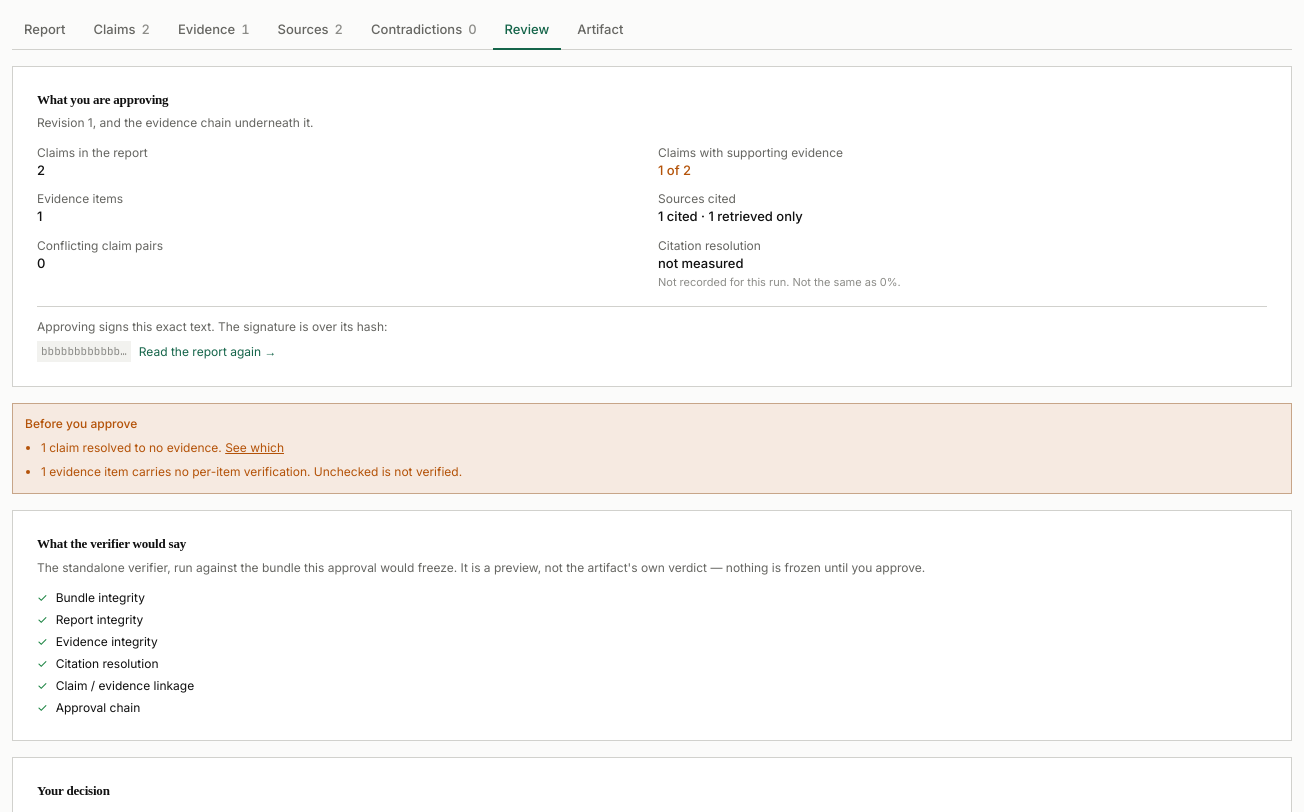
Test: the evidence chain › renders the report as markdown, with a resolved citation and a visible ⚠ for one that is not
Click the tab "Report" at (45,31), box [12,12,78,50]
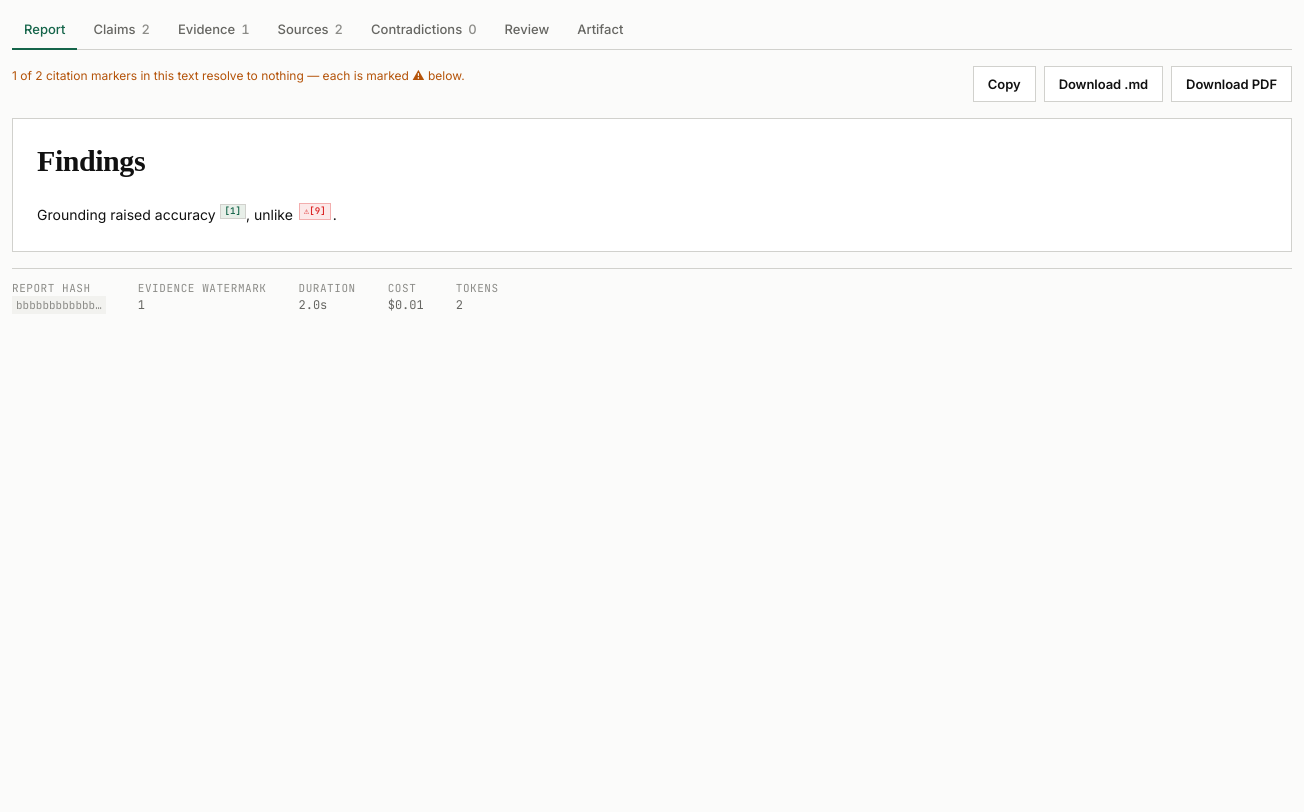
Expected: the heading "Findings" is shown, [37,144,145,176]
Expected: the button named "Source 1: Paper One" is shown, [220,204,246,219]
Expected: the text titled "Citation [9] does not resolve to a source" is shown, [299,203,331,220]
